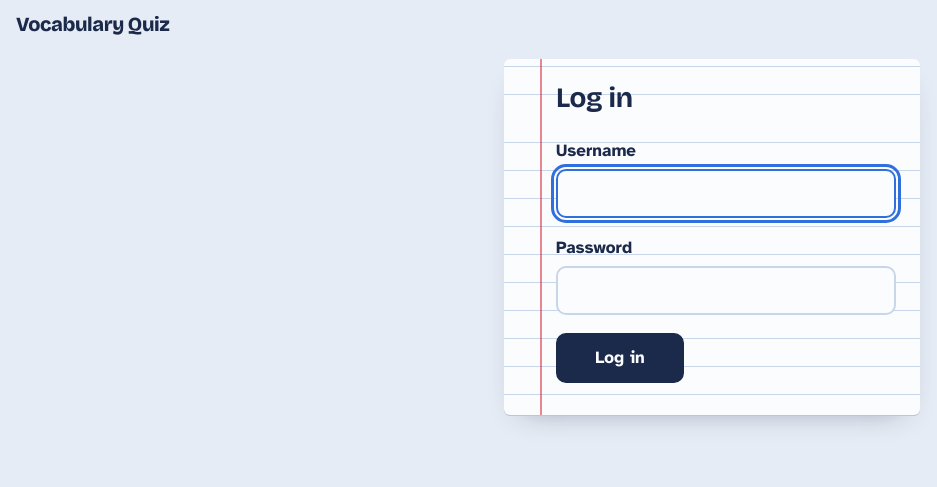
Test: Login (AC31) › shows "Wrong username or password" on a 401 and stays on the form
Step 1. Type "alice" into the field labelled "Username" → (726, 193), box [556,169,896,218]
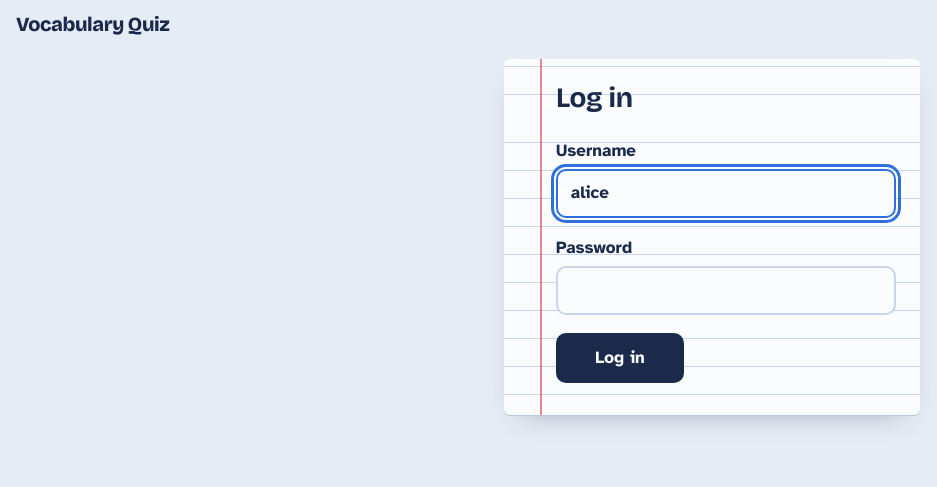
Step 2. Type "nope" into the password field labelled "Password" → (726, 291), box [556,266,896,315]
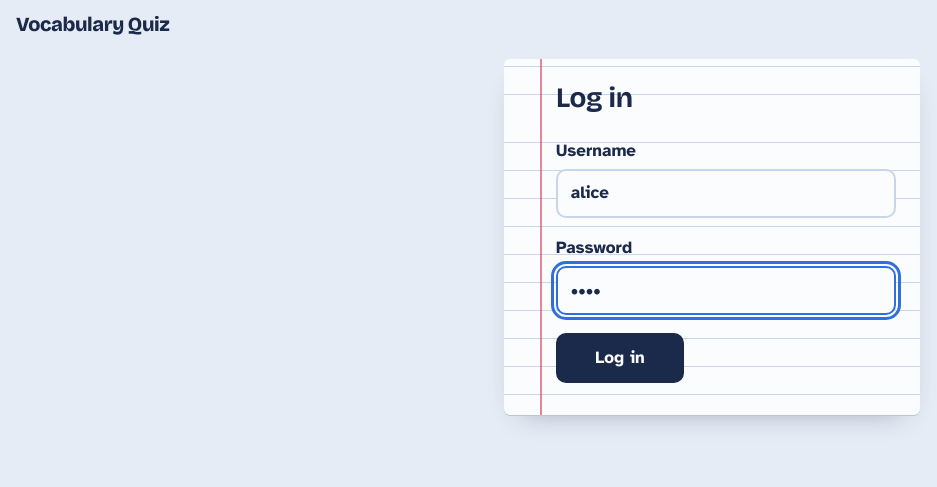
Step 3. Click the button "Log in" → click(620, 358), box [556,332,684,383]
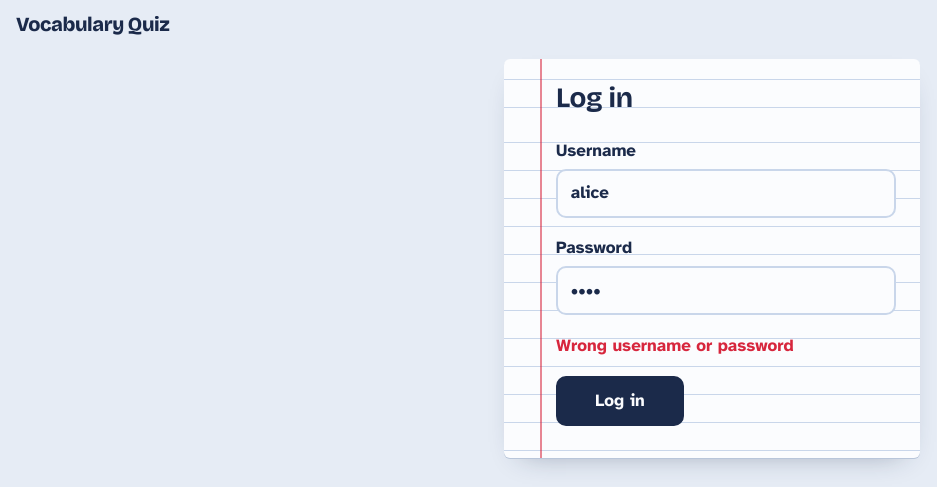
Expected: the heading "Log in" is shown, [556,81,633,115]
Expected: the message reads "Wrong username or password", [556,334,794,356]
